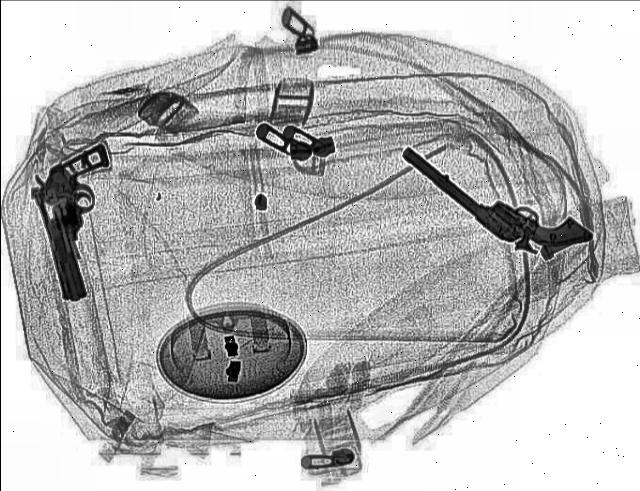Gun: (394, 119, 594, 271), (18, 142, 142, 302)
